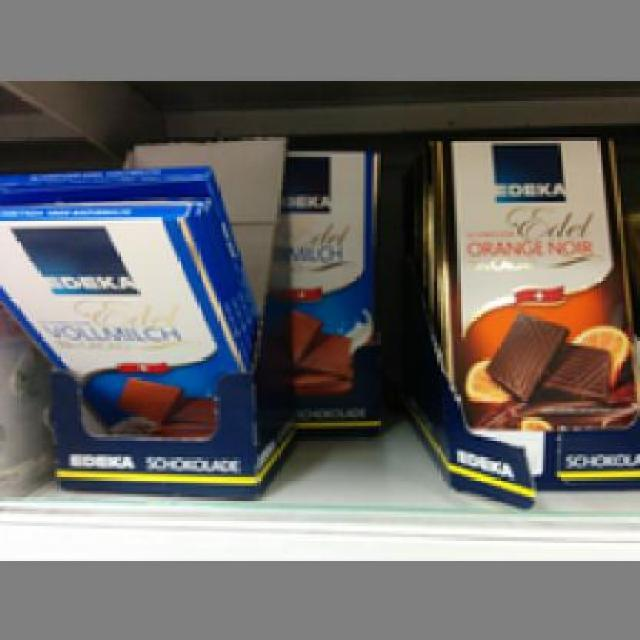Chocolate: (428, 128, 638, 432), (0, 196, 249, 430)
